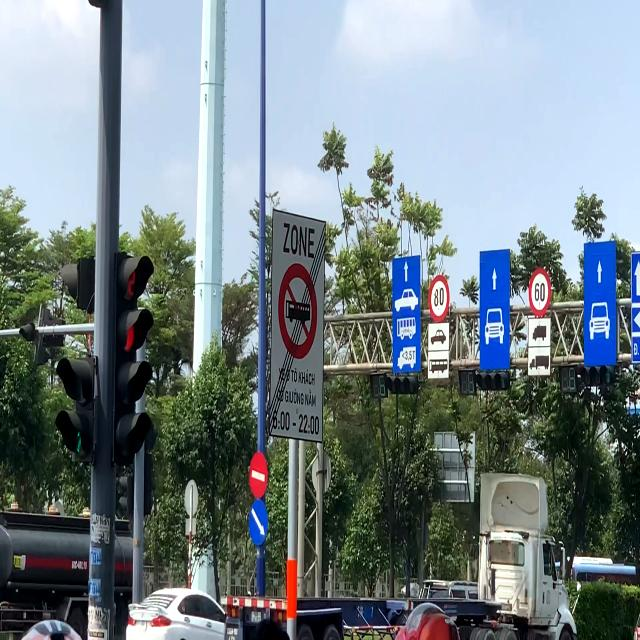P.102: (248, 450, 268, 499)
P.127: (429, 274, 451, 320), (528, 268, 550, 314)
R.302a: (248, 497, 269, 548)
